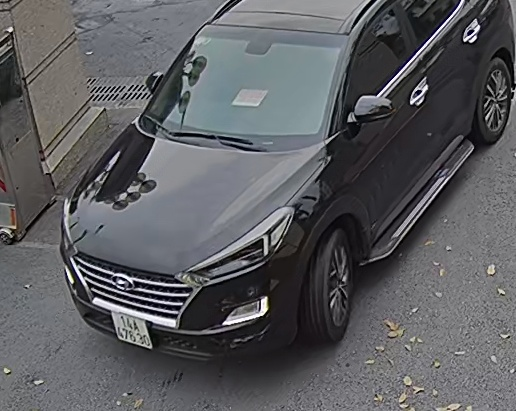vehicle plate: (105, 306, 154, 349)
